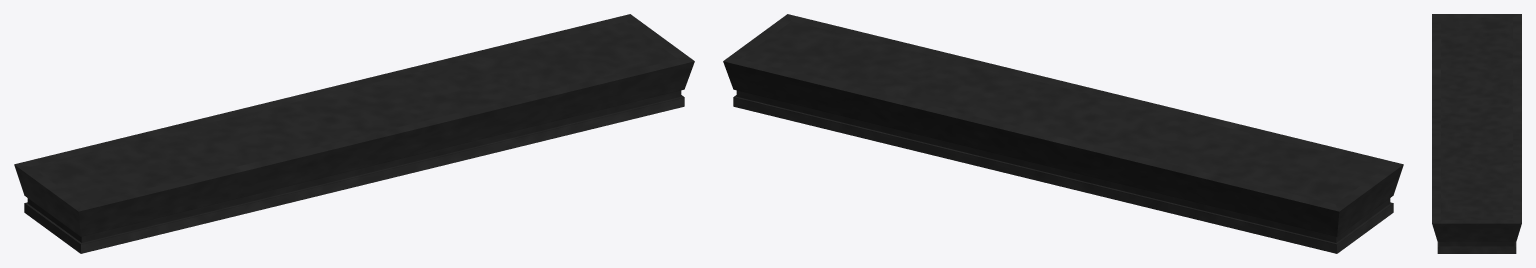
File: Wall_Up.FBX
3 renders of one model, left to right at view 1: azimuth 30°, elevation 25°; view 2: azimuth 150°, elevation 25°; view 3: azimuth 270°, elevation 25°, orthographic. The views are drawn at different scales.
Parts seen in each view (by area): view 1: Wall_Up; view 2: Wall_Up; view 3: Wall_Up.
Part boxes in pixels (x1,y1,x2,y2): Wall_Up: (14,14,694,253); Wall_Up: (723,14,1403,253); Wall_Up: (1432,14,1521,253).
Bounding box in the file's own units: 207 × 15.05 × 37.59.
